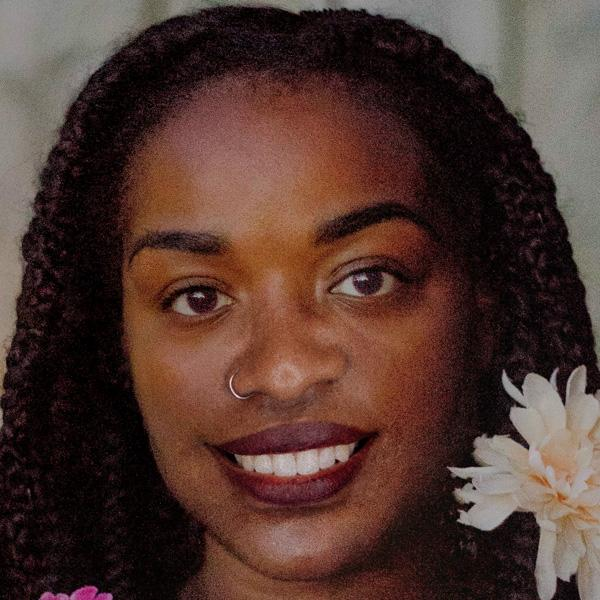Eyes: (139, 260, 248, 338), (313, 245, 434, 309)
